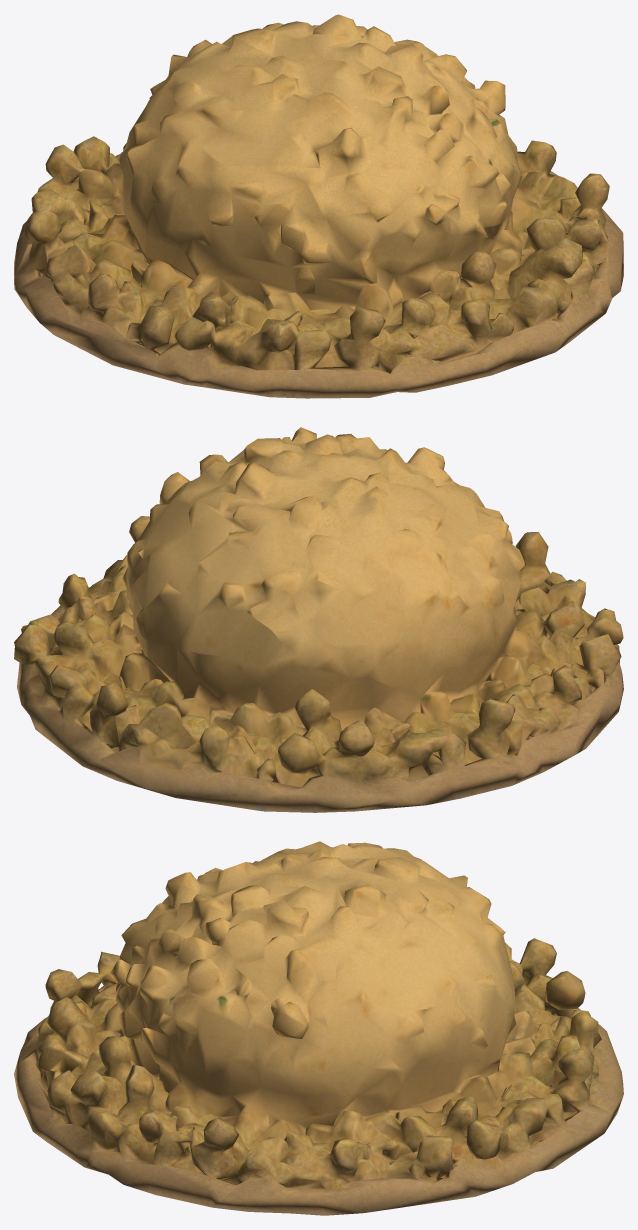
Rendered from Prop_FoodBolus.glb.
3 renders of one model, top to bottom at view 1: azimuth 30°, elevation 25°; view 2: azimuth 150°, elevation 25°; view 3: azimuth 270°, elevation 25°, orthographic.
Bounding box in the file's own units: 1.9 × 0.7722 × 1.9.
Materials: 1 (1 with a texture image).
